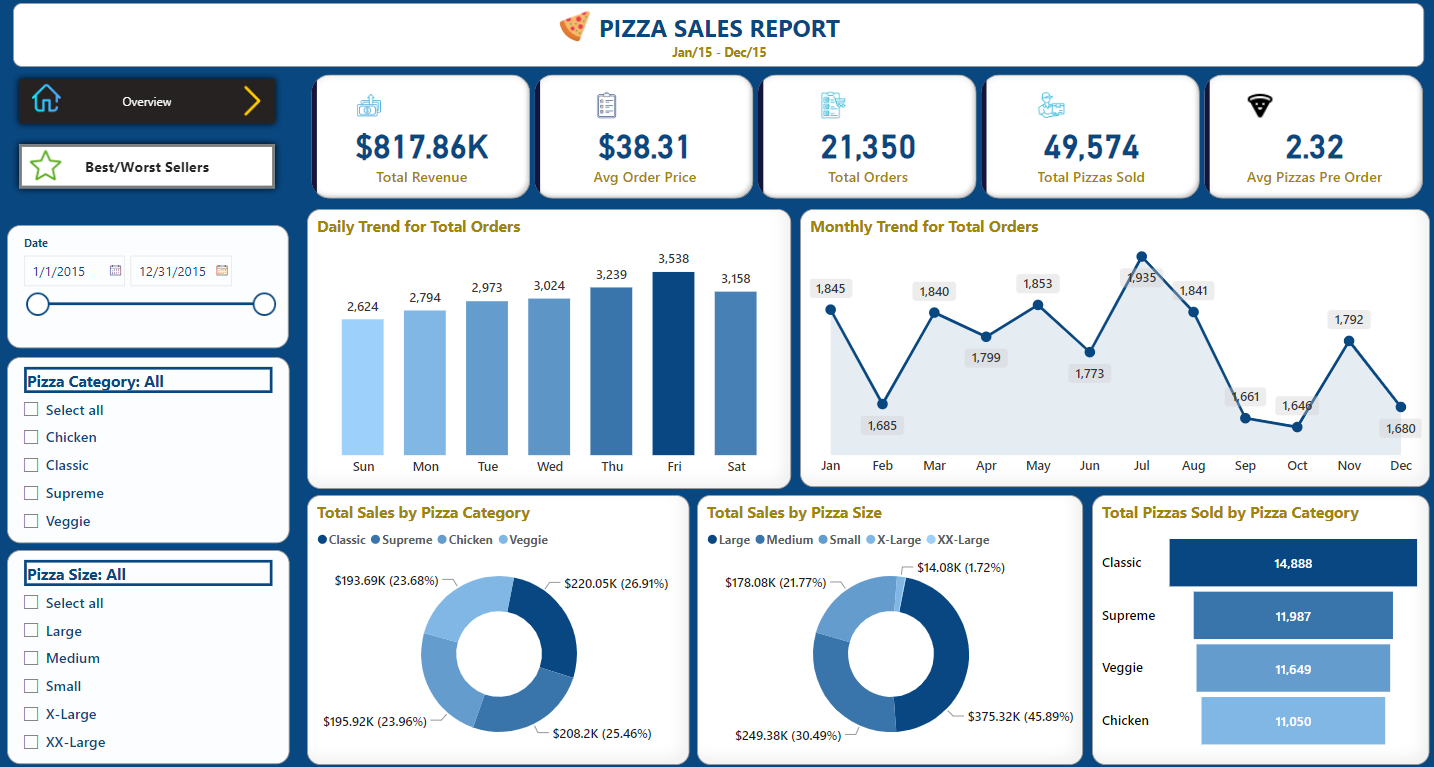

The dashboard page shown, as its layout file describes it:
{"tool":"powerbi","page":{"name":"Overview","canvas":[1600,860],"ordinal":0},"visuals":[{"type":"cardVisual","fields":{"Data":["Pizza Sales.Total Revenue","Pizza Sales.Avg Order Price","Pizza Sales.Total Orders","Pizza Sales.Total Pizzas Sold","Pizza Sales.Avg Pizzas Pre Order"]},"box":[331.4,78.8,1252.8,148.9],"z":0},{"type":"image","box":[944.7,264.3,54,45.3],"z":1000},{"type":"textbox","box":[16.1,3,1568.1,70],"z":2000},{"type":"clusteredColumnChart","title":"Daily Trend for Total Orders","fields":{"Category":["Pizza Sales.Order Day"],"Y":["Pizza Sales.Total Orders"]},"box":[332,234,538.2,310],"z":3000},{"type":"areaChart","title":"Monthly Trend for Total Orders","fields":{"Category":["Pizza Sales.Order Month"],"Y":["Pizza Sales.Total Orders"]},"box":[884,234.7,700,310],"z":4000},{"type":"donutChart","title":"Total Sales by Pizza Category","fields":{"Category":["Pizza Sales.Pizza Category"],"Y":["Pizza Sales.Total Revenue"]},"box":[331.4,551.9,427.8,299.3],"z":5000},{"type":"donutChart","title":"Total Sales by Pizza Size","fields":{"Category":["Pizza Sales.Pizza Size"],"Y":["Pizza Sales.Total Revenue"]},"box":[769.5,551.9,429.3,299.3],"z":6000},{"type":"funnel","title":"Total Pizzas Sold by Pizza Category","fields":{"Category":["Pizza Sales.Pizza Category"],"Y":["Pizza Sales.Total Pizzas Sold"]},"box":[1209,551.9,375.2,299.3],"z":7000},{"type":"slicer","fields":{"Values":["Pizza Sales.Pizza Category"]},"box":[16.1,398.6,300.8,207.3],"z":8000},{"type":"slicer","fields":{"Values":["Pizza Sales.Pizza Size"]},"box":[16.1,613.2,299.3,238],"z":9000},{"type":"slicer","fields":{"Values":["Pizza Sales.Order Date"]},"box":[16.1,227.8,300.8,163.5],"z":10000},{"type":"pageNavigator","box":[16.1,154,300,65],"z":11000},{"type":"pageNavigator","title":"Overview","box":[16.1,81.8,300.8,65.7],"z":12000},{"type":"image","box":[24.8,163.5,56.9,45.3],"z":13000},{"type":"image","box":[27.7,90.5,51.1,42.3],"z":14000},{"type":"image","box":[257,92,51.1,43.8],"z":15000},{"type":"image","box":[613.2,8.8,54,45.3],"z":16000}]}

Visuals, with their boxes in screenshot pixels (x1, y1, x2, y2), scaled from the page's 1600x860 canvas onto the 1434x767 screenshot:
cardVisual - Pizza Sales.Total Revenue x Pizza Sales.Avg Order Price: x1=297, y1=70, x2=1420, y2=203
image: x1=847, y1=236, x2=895, y2=276
textbox: x1=14, y1=3, x2=1420, y2=65
"Daily Trend for Total Orders" clusteredColumnChart: x1=298, y1=209, x2=780, y2=485
"Monthly Trend for Total Orders" areaChart: x1=792, y1=209, x2=1420, y2=486
"Total Sales by Pizza Category" donutChart: x1=297, y1=492, x2=680, y2=759
"Total Sales by Pizza Size" donutChart: x1=690, y1=492, x2=1074, y2=759
"Total Pizzas Sold by Pizza Category" funnel: x1=1084, y1=492, x2=1420, y2=759
slicer - Pizza Sales.Pizza Category: x1=14, y1=355, x2=284, y2=540
slicer - Pizza Sales.Pizza Size: x1=14, y1=547, x2=283, y2=759
slicer - Pizza Sales.Order Date: x1=14, y1=203, x2=284, y2=349
pageNavigator: x1=14, y1=137, x2=283, y2=195
"Overview" pageNavigator: x1=14, y1=73, x2=284, y2=132
image: x1=22, y1=146, x2=73, y2=186
image: x1=25, y1=81, x2=71, y2=118
image: x1=230, y1=82, x2=276, y2=121
image: x1=550, y1=8, x2=598, y2=48
